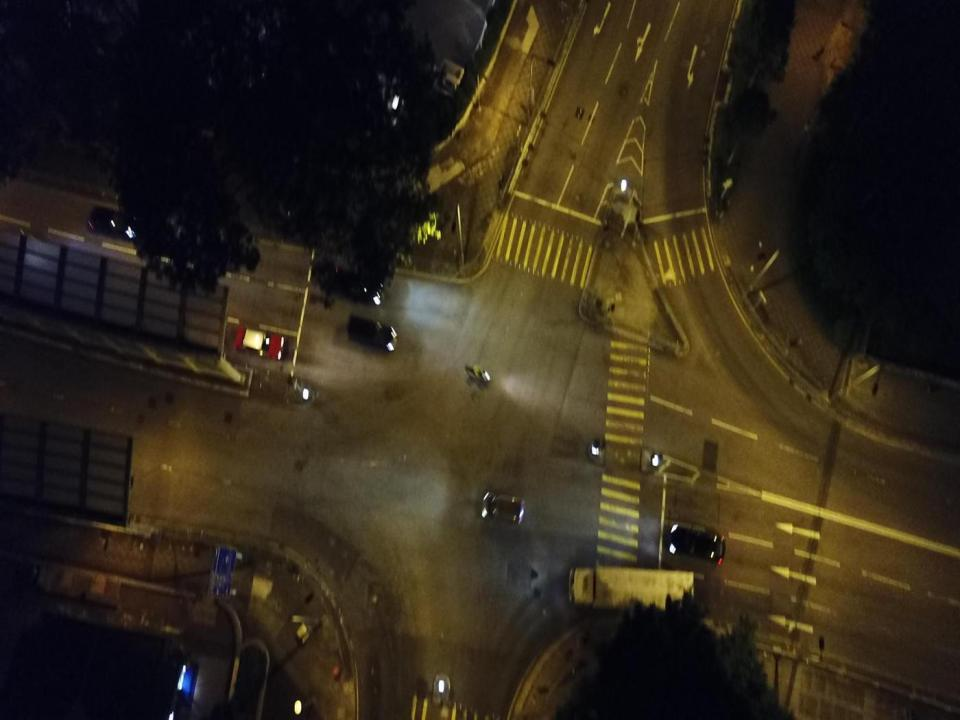car: (320, 255, 384, 306), (666, 524, 726, 566), (233, 325, 285, 362), (348, 313, 397, 352), (87, 206, 137, 242), (482, 490, 524, 525)
truck: (567, 565, 695, 616)
